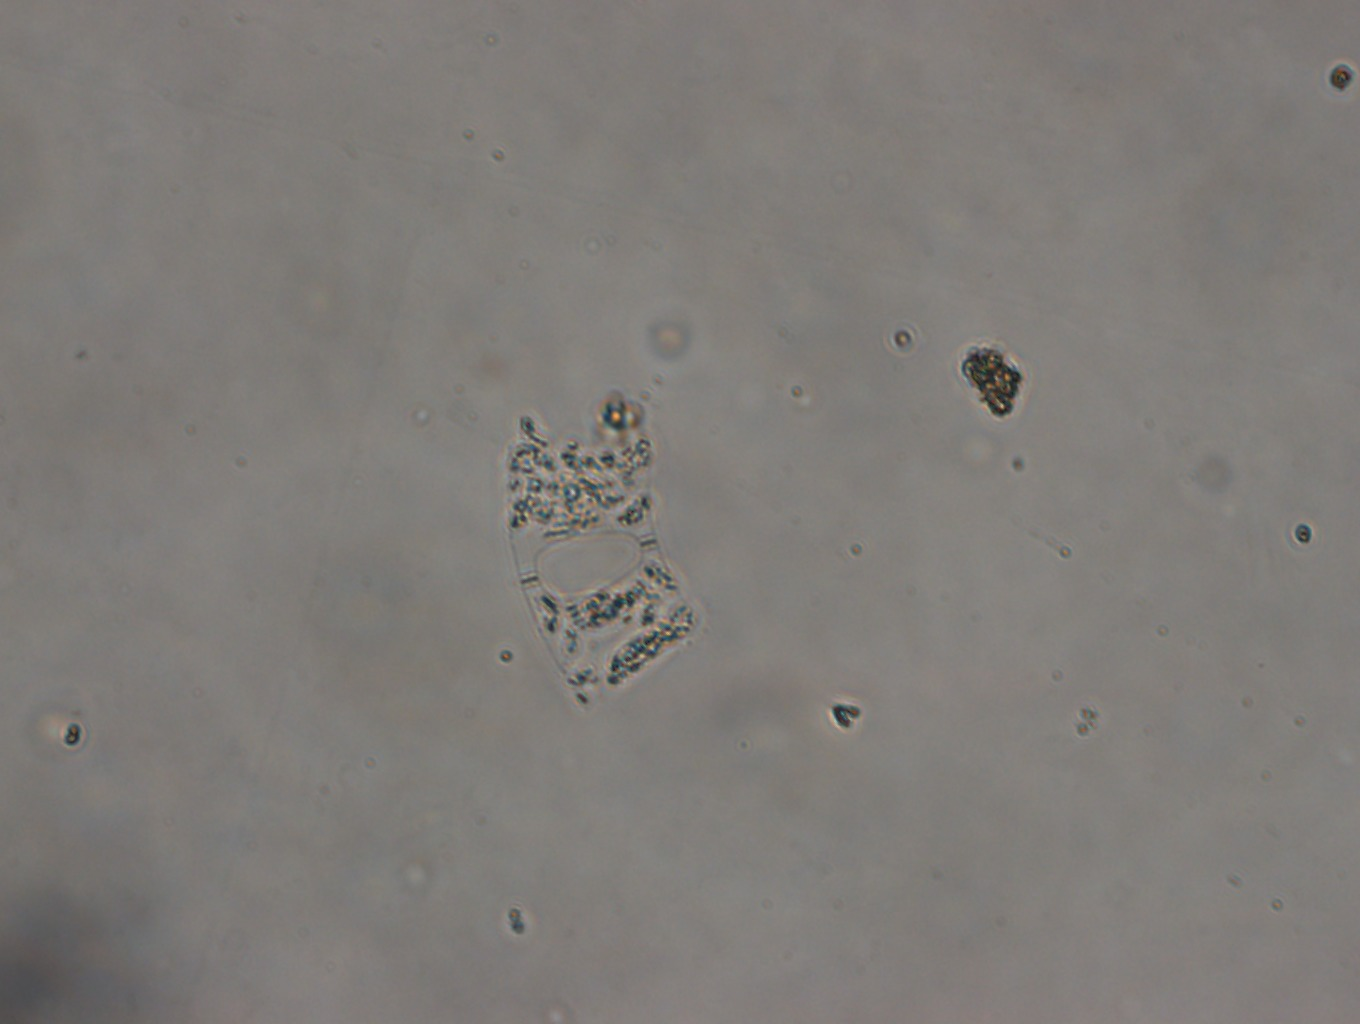eucampia: (502, 392, 705, 716)
